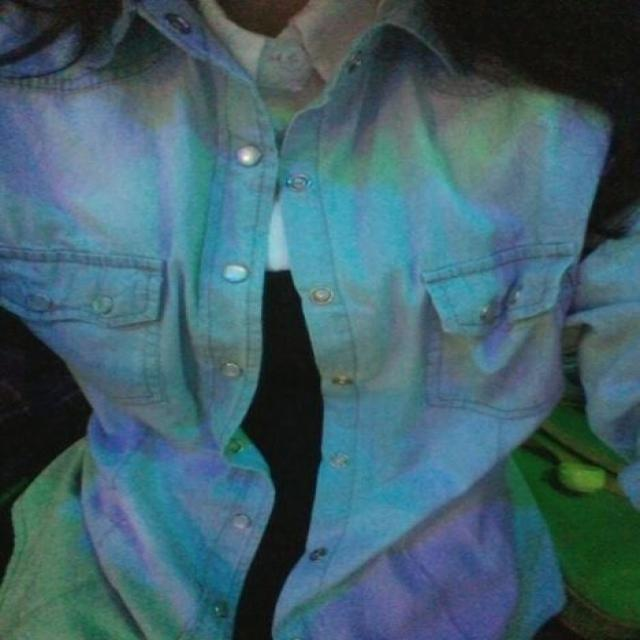long sleeve outwear: (3, 3, 263, 639)
